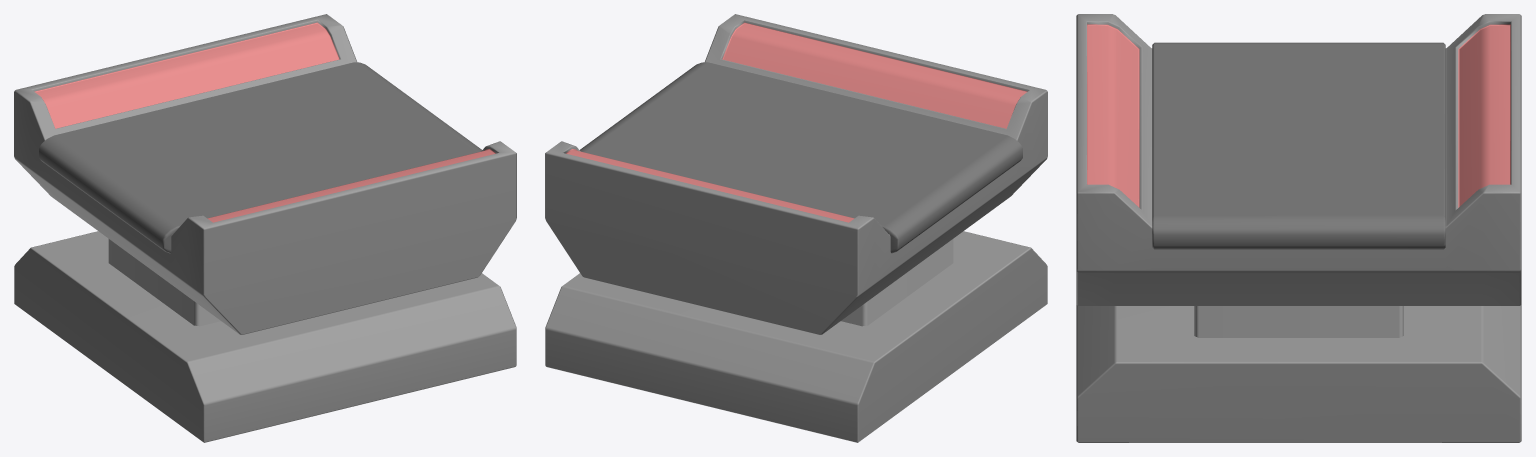
File: belt.fbx
3 renders of one model, left to right at view 1: azimuth 30°, elevation 25°; view 2: azimuth 150°, elevation 25°; view 3: azimuth 270°, elevation 25°, orthographic. The views are drawn at different scales.
Visible parts, largest first — view 1: belt_robot; view 2: belt_robot; view 3: belt_robot.
Part boxes in pixels (box(x1,y1,x2,y2)): belt_robot: box(14, 14, 516, 442); belt_robot: box(545, 14, 1047, 442); belt_robot: box(1076, 14, 1521, 442).
Size of the model in its own units: 1 by 0.6233 by 1.
